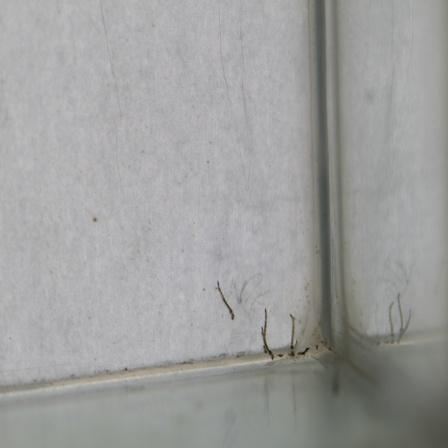Jentik-Nyamuk: (288, 312, 313, 361), (212, 277, 238, 324), (257, 306, 276, 363)
